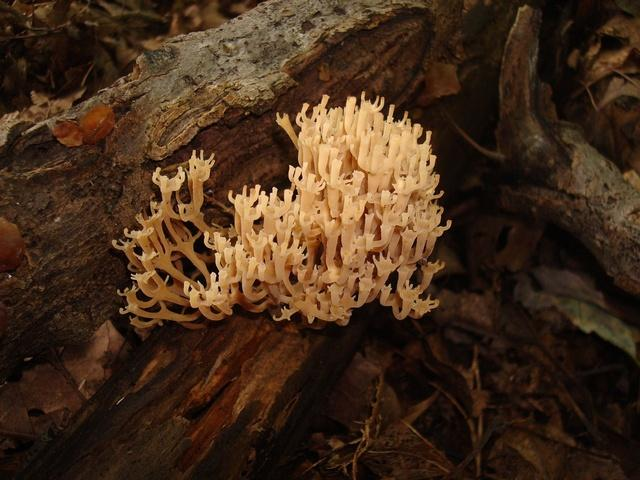edible_mushroom: (110, 90, 452, 336)
